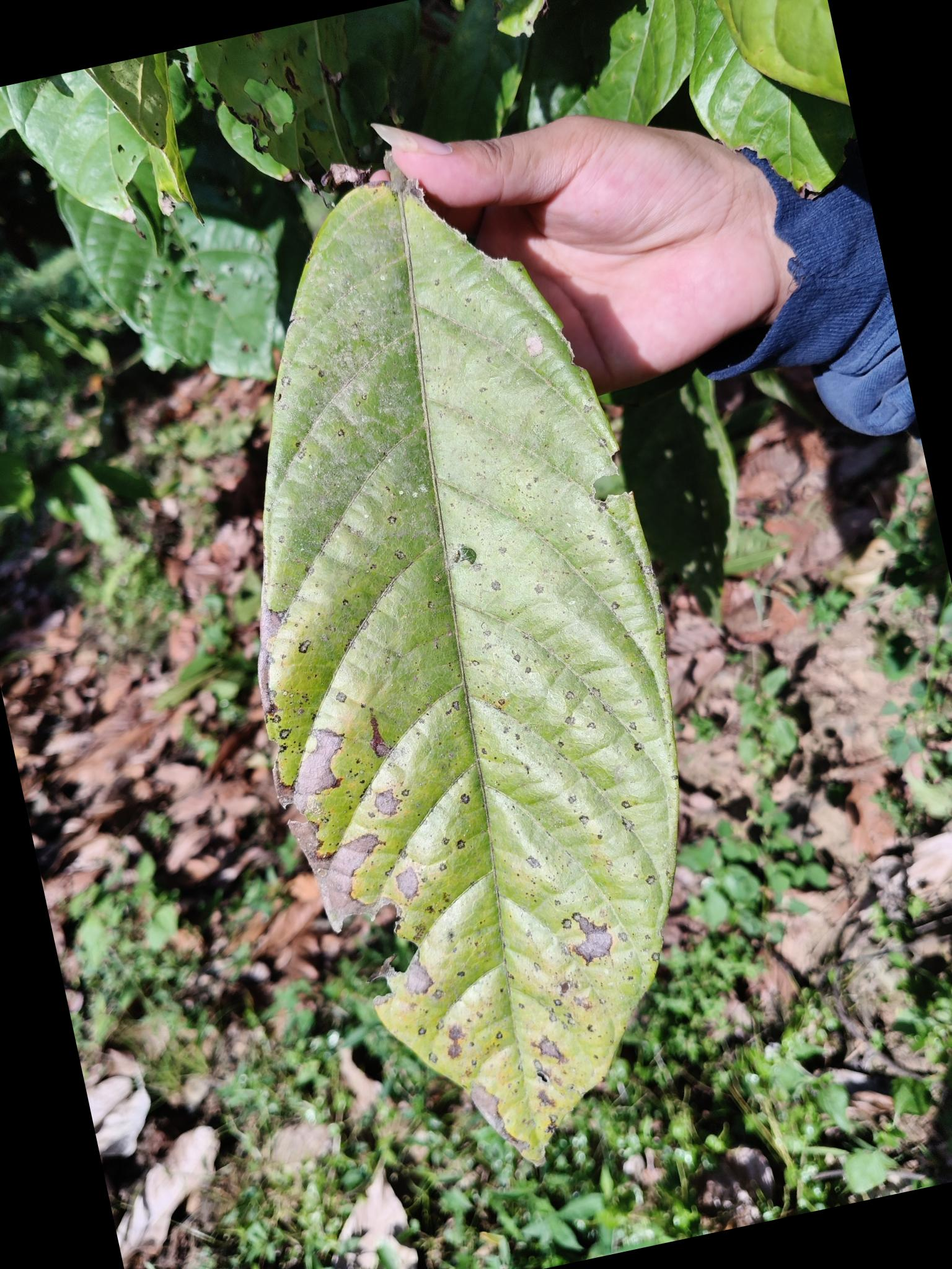Fosforo: (268, 195, 670, 1156)
